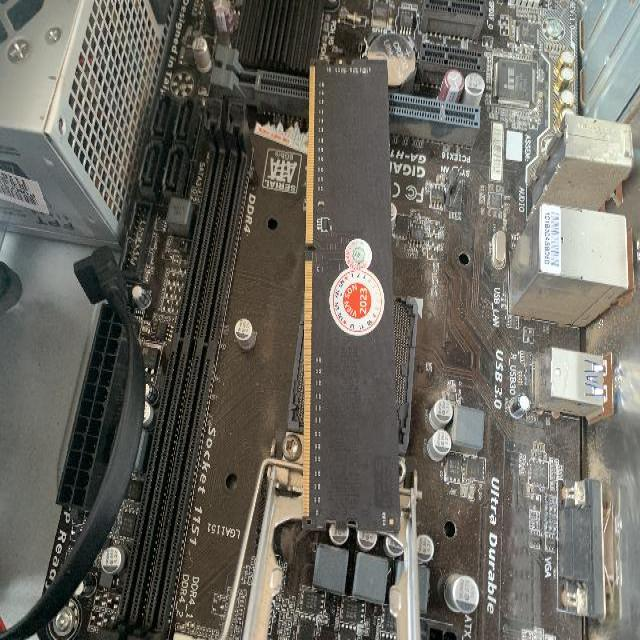Mainboard: (117, 0, 640, 640)
PSU: (1, 0, 178, 251)
RAM: (304, 57, 402, 535)
